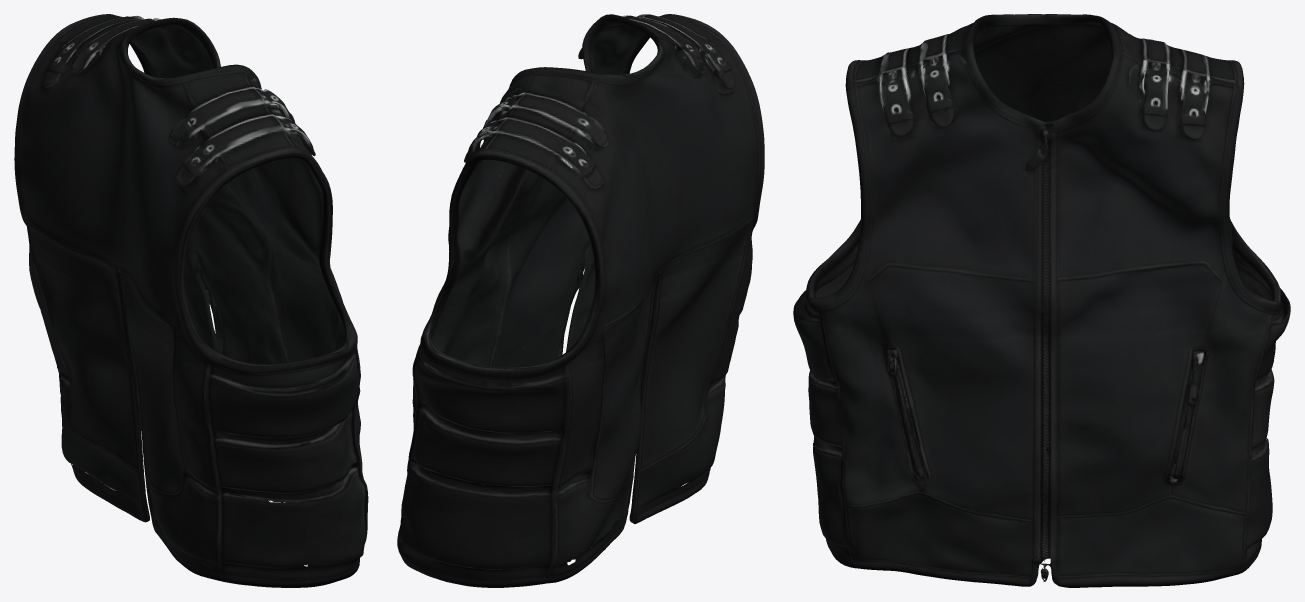
File: prsluk-3dmodel-mobile.webp.glb
3 renders of one model, left to right at view 1: azimuth 30°, elevation 25°; view 2: azimuth 150°, elevation 25°; view 3: azimuth 270°, elevation 25°, orthographic. The views are drawn at different scales.
Visible parts, largest first — view 1: tripo_node_dc9e5c96; view 2: tripo_node_dc9e5c96; view 3: tripo_node_dc9e5c96.
Boxes of the visible parts, left/top/right/bottom form: tripo_node_dc9e5c96: left=14, top=14, right=368, bottom=587; tripo_node_dc9e5c96: left=397, top=14, right=764, bottom=587; tripo_node_dc9e5c96: left=793, top=14, right=1290, bottom=587.
Size of the model in its own units: 0.4389 by 0.9767 by 0.8747.
Materials: 1 (1 with a texture image).
